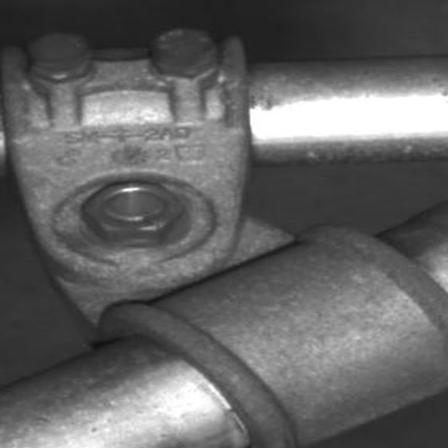nut: (85, 179, 188, 247)
screw2: (154, 24, 226, 83), (33, 29, 96, 83)
